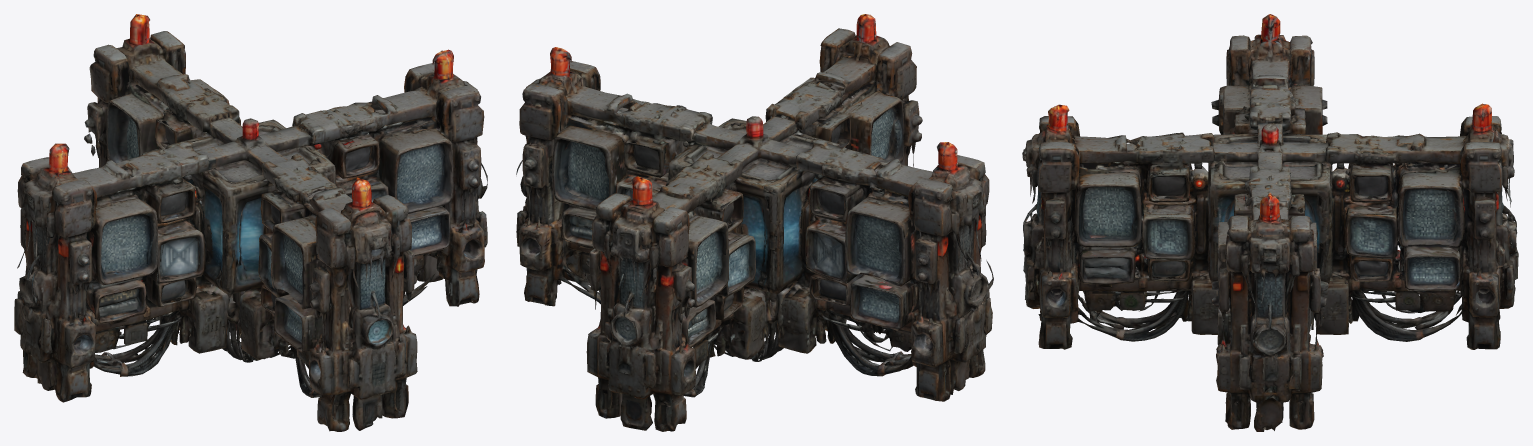
Rendered from BK_BossCore.fbx.
3 views of the same model, side by side, from view 1: azimuth 30°, elevation 25°; view 2: azimuth 150°, elevation 25°; view 3: azimuth 270°, elevation 25° (orthographic). The views are drawn at different scales.
Parts seen in each view (by area): view 1: texture_mapping; view 2: texture_mapping; view 3: texture_mapping.
Boxes of the visible parts, x1=… form: texture_mapping: x1=14, y1=14, x2=487, y2=431; texture_mapping: x1=516, y1=14, x2=993, y2=431; texture_mapping: x1=1022, y1=14, x2=1518, y2=431.
Bounding box in the file's own units: 0.9845 × 0.9732 × 0.5302.
1 material, 1 textured.
